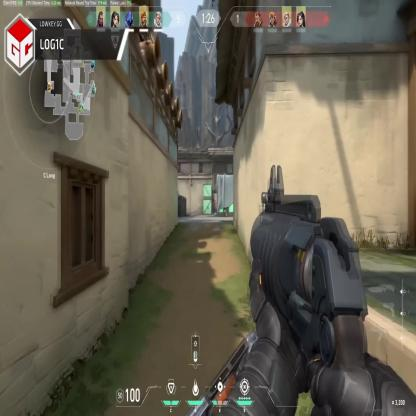enemy: (214, 198, 217, 214)
enemy_head: (215, 198, 216, 201)
